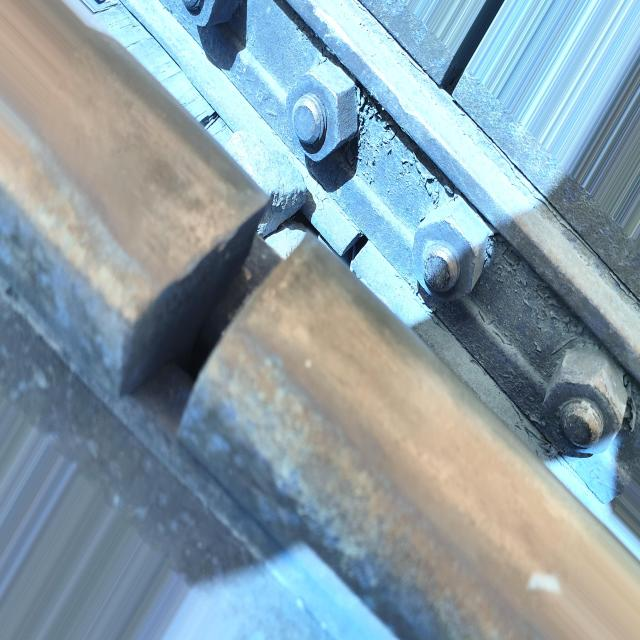crack: (41, 161, 327, 451)
